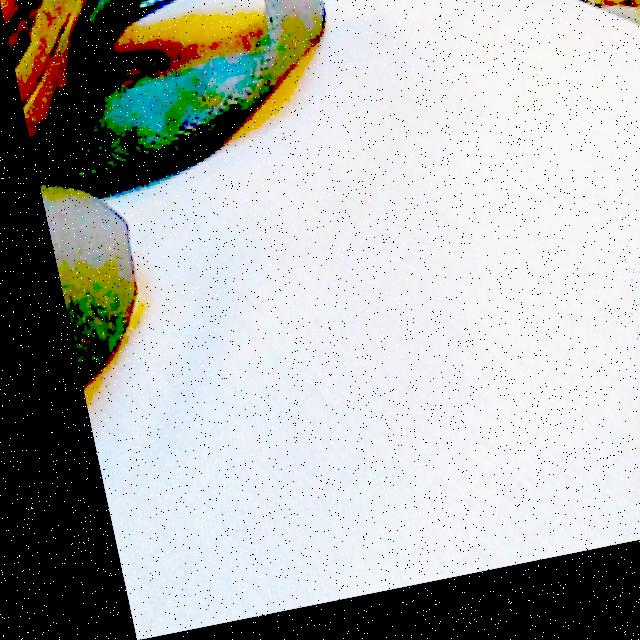adapter: (600, 250, 640, 554)
